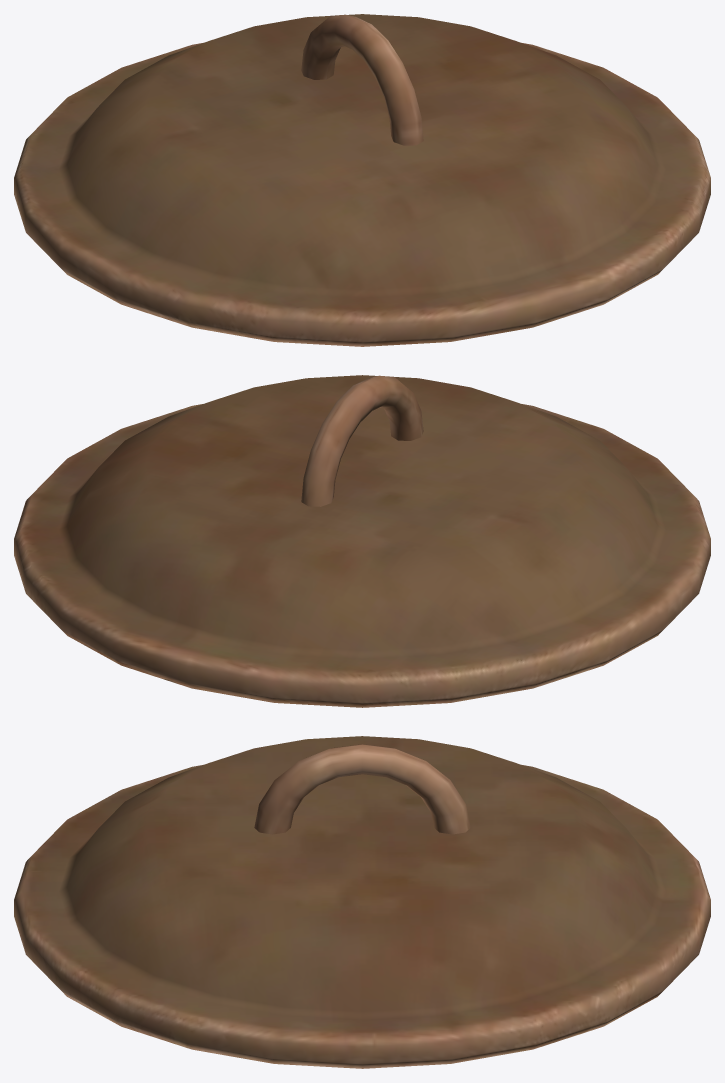
3 views of the same model, one above another, from view 1: azimuth 30°, elevation 25°; view 2: azimuth 150°, elevation 25°; view 3: azimuth 270°, elevation 25° (orthographic).
Visible parts, largest first — view 1: SM_Dec_Kitchen_Brass_Pot_Medium_Lid_LOD0; view 2: SM_Dec_Kitchen_Brass_Pot_Medium_Lid_LOD0; view 3: SM_Dec_Kitchen_Brass_Pot_Medium_Lid_LOD0.
Part boxes in pixels (x1,y1,x2,y2): SM_Dec_Kitchen_Brass_Pot_Medium_Lid_LOD0: (14, 14, 710, 346); SM_Dec_Kitchen_Brass_Pot_Medium_Lid_LOD0: (14, 375, 710, 707); SM_Dec_Kitchen_Brass_Pot_Medium_Lid_LOD0: (14, 736, 710, 1068).
Bounding box in the file's own units: 0.5107 × 0.1455 × 0.5107.
Materials: 1 (1 with a texture image).
